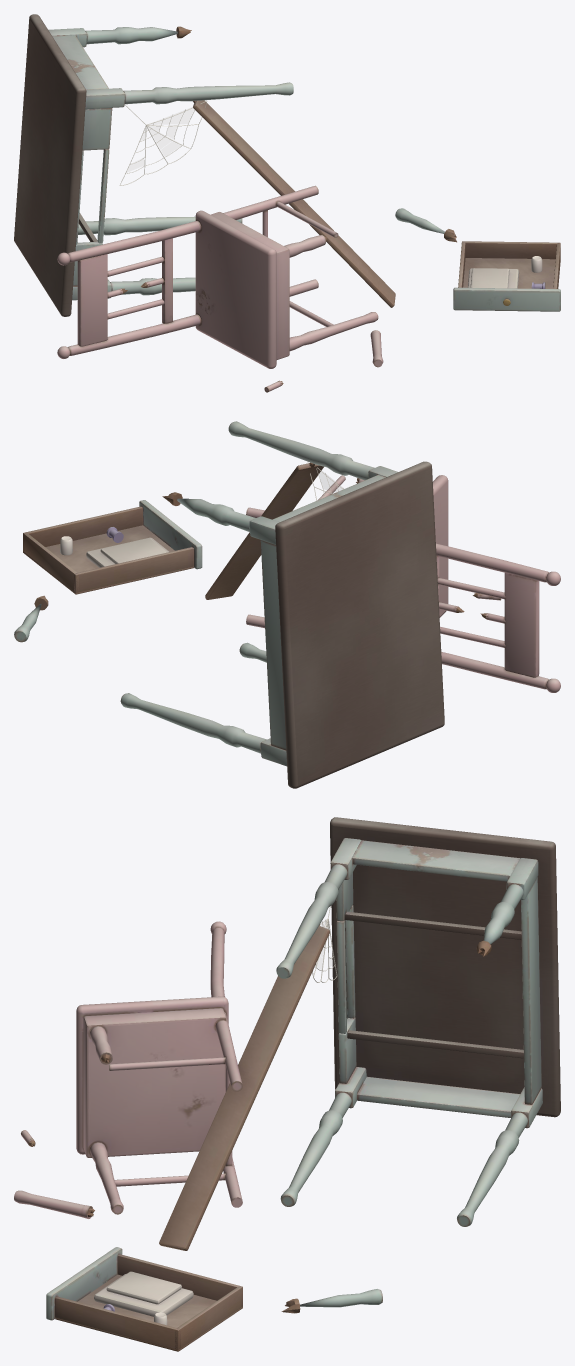
Rendered from broken-furniture.glb.
3 views of the same model, one above another, from view 1: azimuth 30°, elevation 25°; view 2: azimuth 150°, elevation 25°; view 3: azimuth 270°, elevation 25° (orthographic). The views are drawn at different scales.
Visible parts, largest first — view 1: broken-furniture_body, broken-furniture_web; view 2: broken-furniture_body; view 3: broken-furniture_body.
Part boxes in pixels (box(x1,y1,x2,y2)): broken-furniture_body: box(14, 14, 560, 392); broken-furniture_web: box(119, 100, 207, 185); broken-furniture_body: box(14, 421, 560, 788); broken-furniture_body: box(14, 817, 560, 1351).
Size of the model in its own units: 1.79 by 0.801 by 1.41.
Materials: 3 (1 with a texture image).
